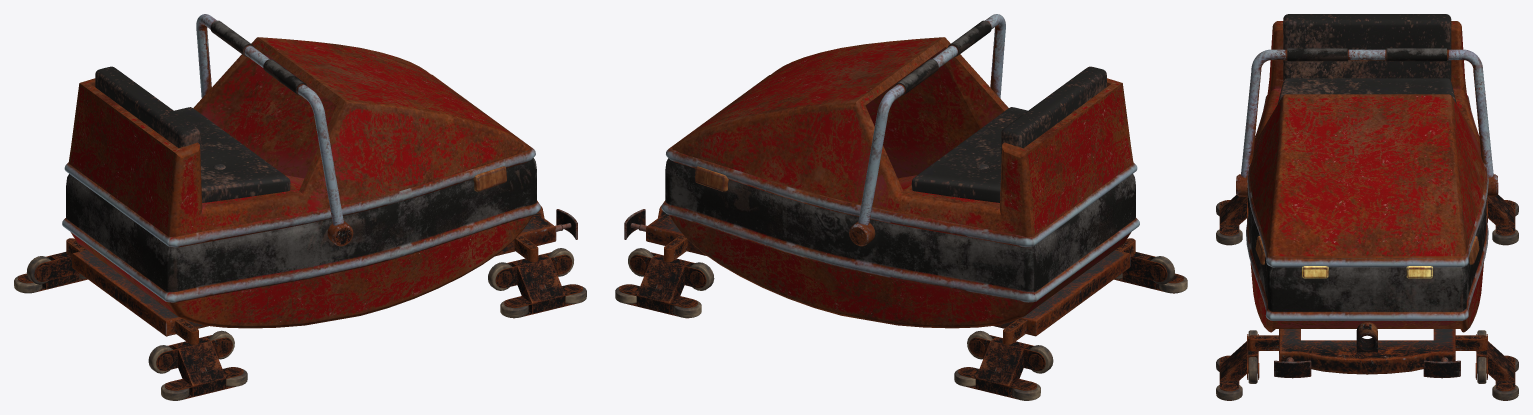
3 renders of one model, left to right at view 1: azimuth 30°, elevation 25°; view 2: azimuth 150°, elevation 25°; view 3: azimuth 270°, elevation 25°, orthographic. The views are drawn at different scales.
Visible parts, largest first — view 1: polySurface3, transform47, RollerCoasterCart:RollerCoasterCart:polySurface76_f_4_; view 2: polySurface3, transform47, RollerCoasterCart:RollerCoasterCart:polySurface76_f_4_; view 3: polySurface3, transform47, RollerCoasterCart:RollerCoasterCart:polySurface76_f_4_.
Boxes of the visible parts, x1=… form: polySurface3: x1=62, y1=37, x2=540, y2=328; transform47: x1=14, y1=66, x2=586, y2=400; RollerCoasterCart:RollerCoasterCart:polySurface76_f_4_: x1=72, y1=14, x2=556, y2=336; polySurface3: x1=661, y1=37, x2=1139, y2=328; transform47: x1=615, y1=66, x2=1187, y2=400; RollerCoasterCart:RollerCoasterCart:polySurface76_f_4_: x1=646, y1=14, x2=1130, y2=336; polySurface3: x1=1246, y1=21, x2=1488, y2=332; transform47: x1=1216, y1=14, x2=1518, y2=400; RollerCoasterCart:RollerCoasterCart:polySurface76_f_4_: x1=1236, y1=48, x2=1498, y2=374.
Bounding box in the file's own units: 2.15 × 1.17 × 1.35.
3 materials, 3 textured.
